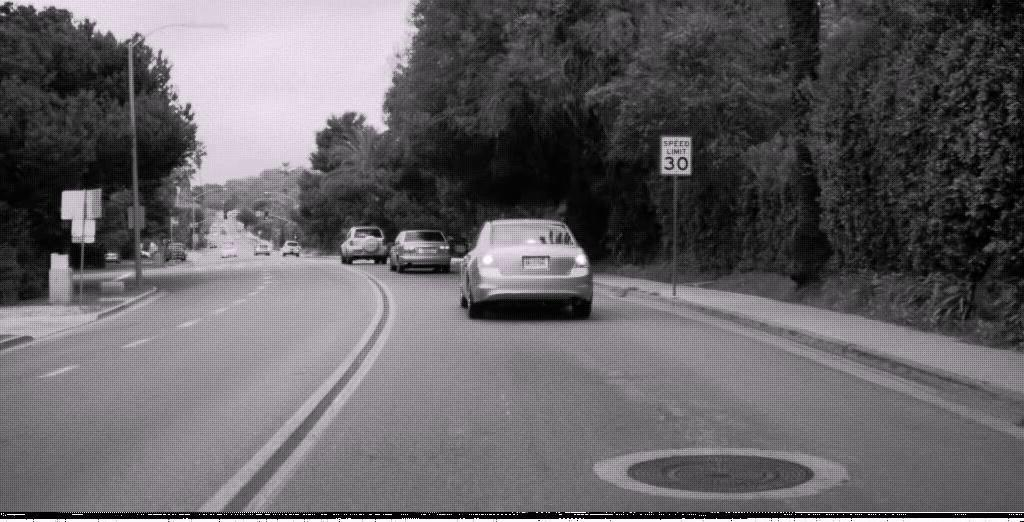30 MPH: (659, 135, 692, 175)
